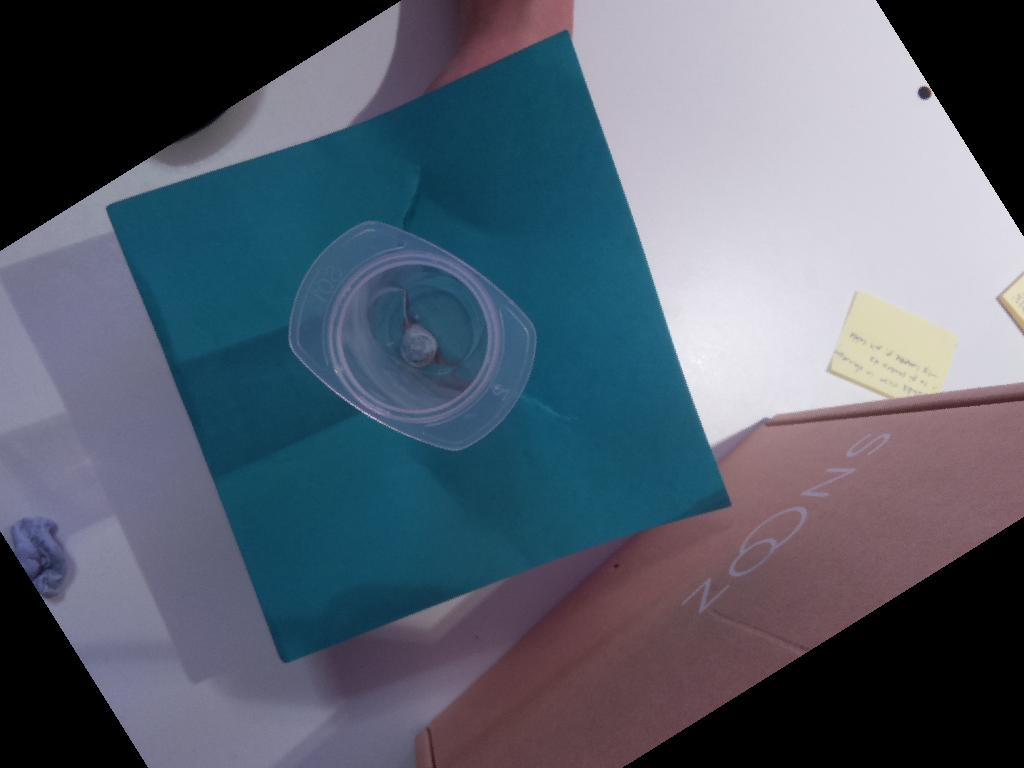clean: (282, 215, 540, 462)
